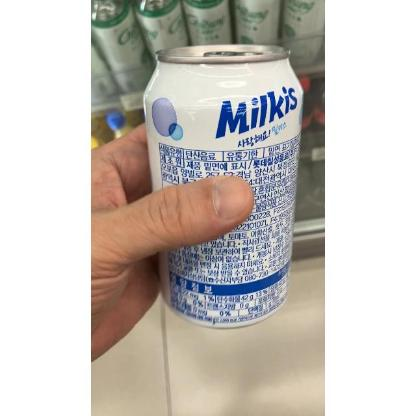Can: (143, 43, 307, 332)
